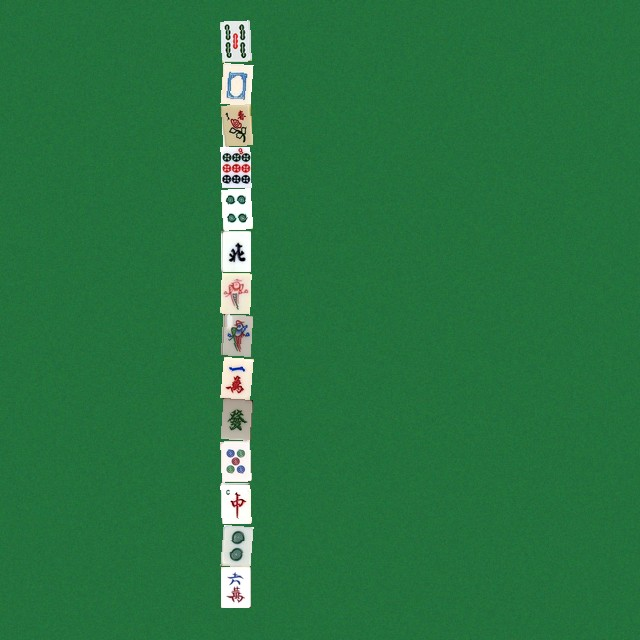tile: (220, 20, 250, 61), (220, 62, 250, 103), (220, 104, 250, 145), (220, 146, 250, 187), (220, 188, 250, 229), (220, 230, 250, 271), (220, 272, 250, 313), (220, 314, 250, 355), (220, 356, 250, 397), (220, 398, 250, 439), (220, 440, 250, 481), (220, 482, 250, 523), (220, 524, 250, 565), (220, 566, 250, 607)
